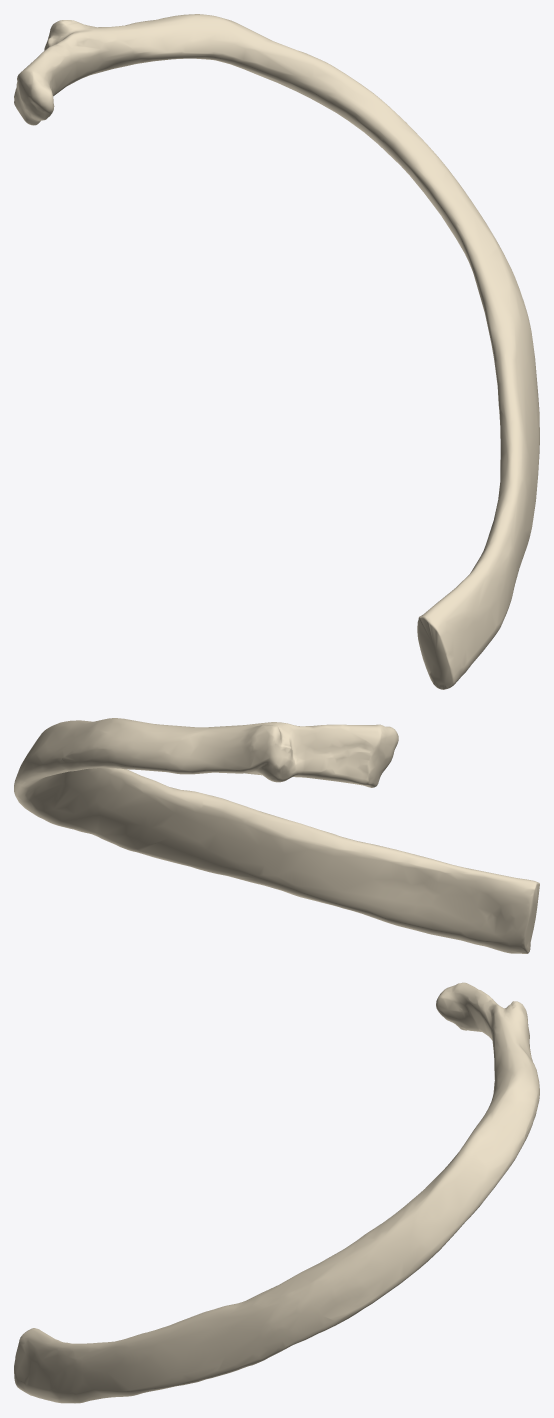
Rendered from third-rib-l.glb.
3 views of the same model, one above another, from view 1: azimuth 30°, elevation 25°; view 2: azimuth 150°, elevation 25°; view 3: azimuth 270°, elevation 25° (orthographic). The views are drawn at different scales.
Parts seen in each view (by area): view 1: Third rib.l; view 2: Third rib.l; view 3: Third rib.l.
Part boxes in pixels (bbox=[...]): Third rib.l: bbox=[14, 14, 539, 689]; Third rib.l: bbox=[14, 718, 539, 953]; Third rib.l: bbox=[14, 982, 539, 1403].
Bounding box in the file's own units: 0.0955 × 0.1058 × 0.1392.
